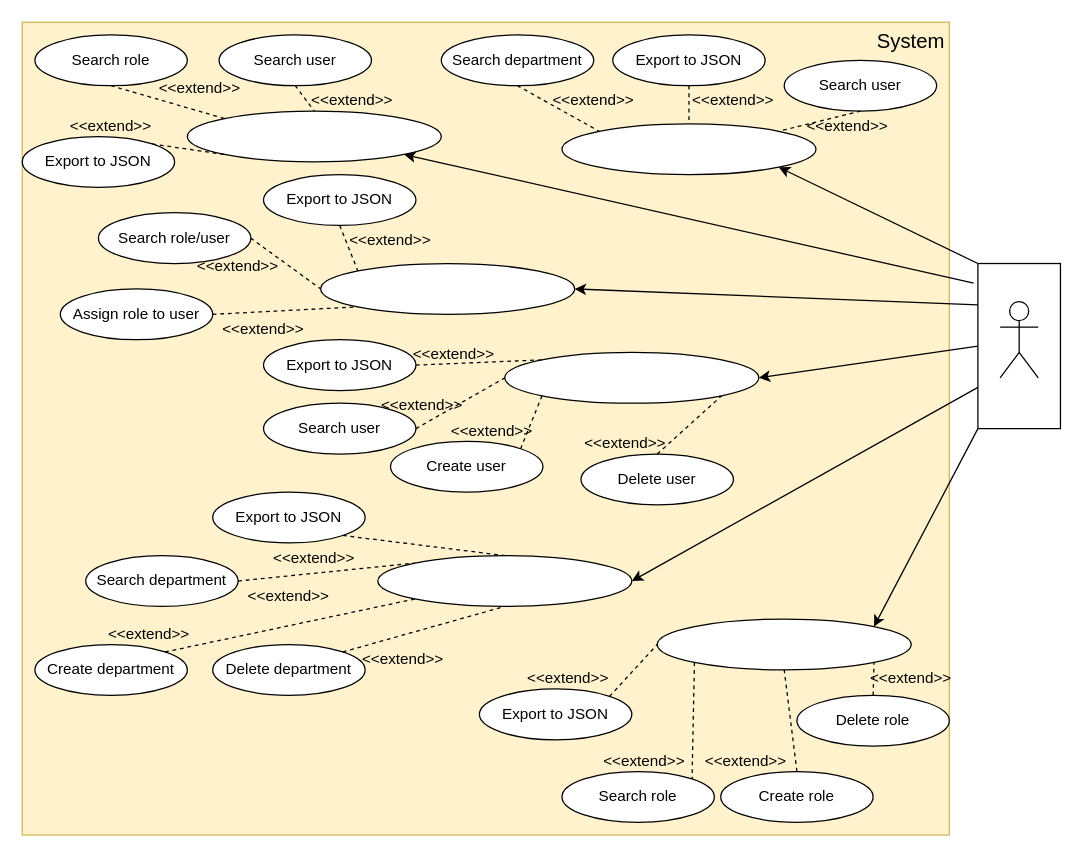
Some shapes in this 1083 by 857 pixel diagram are drawn without their labels. The shapes that lost their labels are listed below. From the top down, each one's centre as x and y in pixels, then its label:
point 313,136: Show role-related user list
point 688,149: Show departmental user list
point 447,288: Show user role list
point 1018,339: super_user (no root)
point 631,377: Show user list
point 504,580: Show department list
point 783,644: Show roles list
